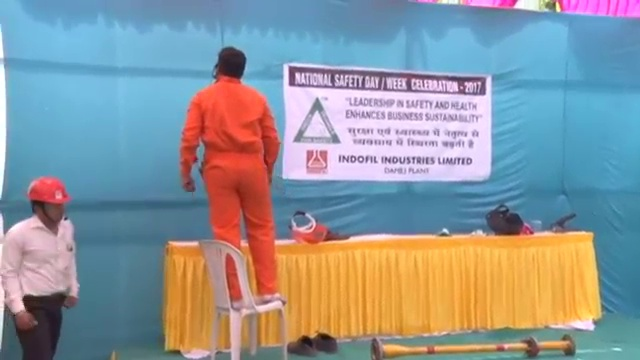helmet: (26, 176, 72, 204)
helmet_off: (213, 44, 247, 80)
helmet_on: (23, 176, 71, 227)
person: (181, 42, 289, 302), (1, 173, 79, 355)
